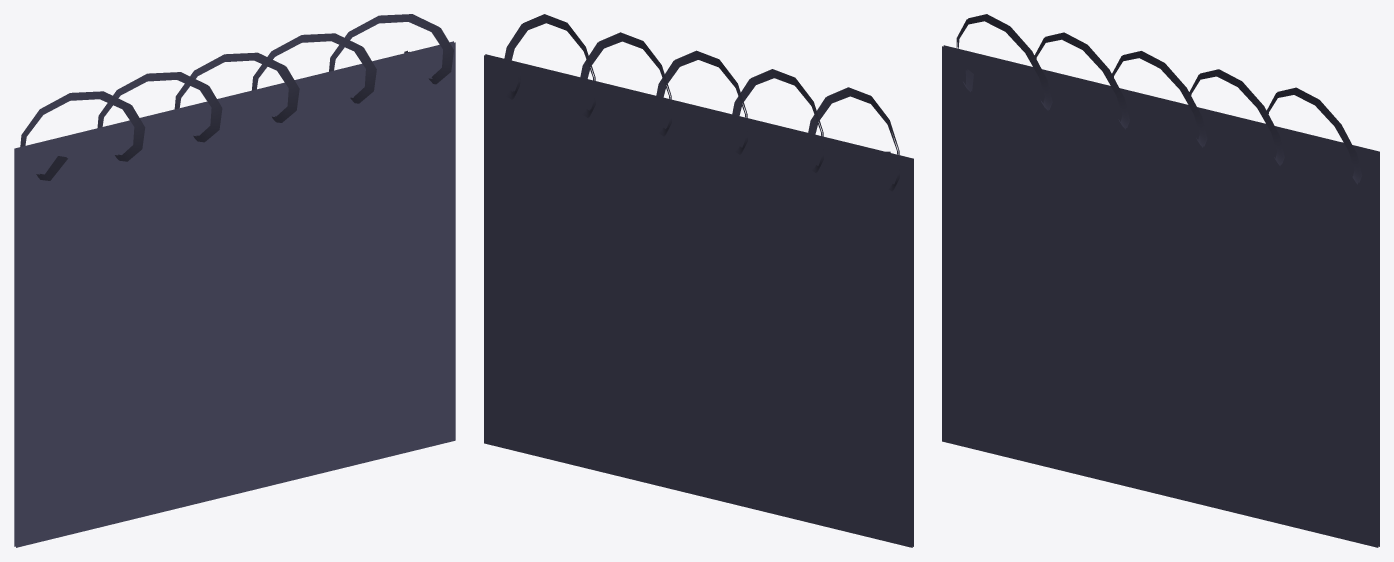
File: mesh_WireFence_Section_v2.1.fbx
3 renders of one model, left to right at view 1: azimuth 30°, elevation 25°; view 2: azimuth 150°, elevation 25°; view 3: azimuth 330°, elevation 25°, orthographic. The views are drawn at different scales.
Parts seen in each view (by area): view 1: mesh_WireFence_Section_v2_1; view 2: mesh_WireFence_Section_v2_1; view 3: mesh_WireFence_Section_v2_1.
Part boxes in pixels (box(x1,y1,x2,y2)): mesh_WireFence_Section_v2_1: box(14, 14, 455, 547); mesh_WireFence_Section_v2_1: box(484, 14, 913, 547); mesh_WireFence_Section_v2_1: box(942, 14, 1379, 547).
Bounding box in the file's own units: 195 × 189 × 16.68.
